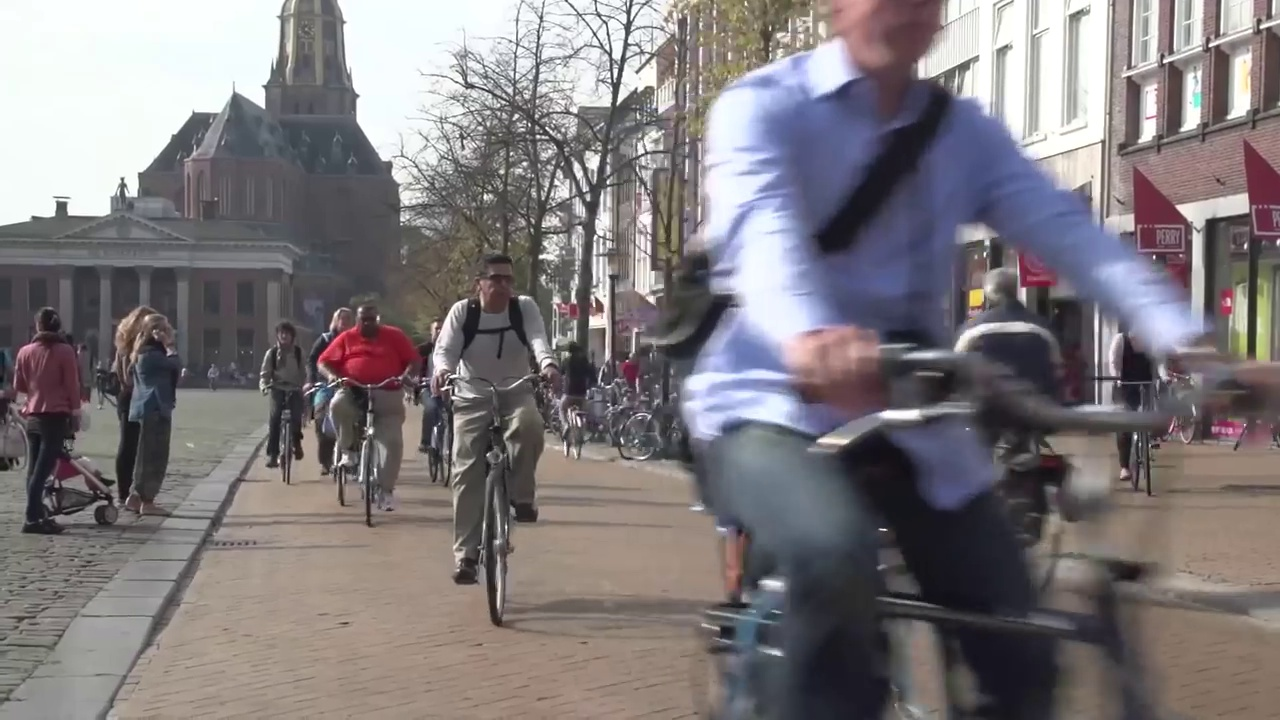cyclist_back: (549, 328, 595, 466)
cyclist_front: (429, 253, 554, 634), (318, 300, 416, 531), (259, 317, 313, 489)
